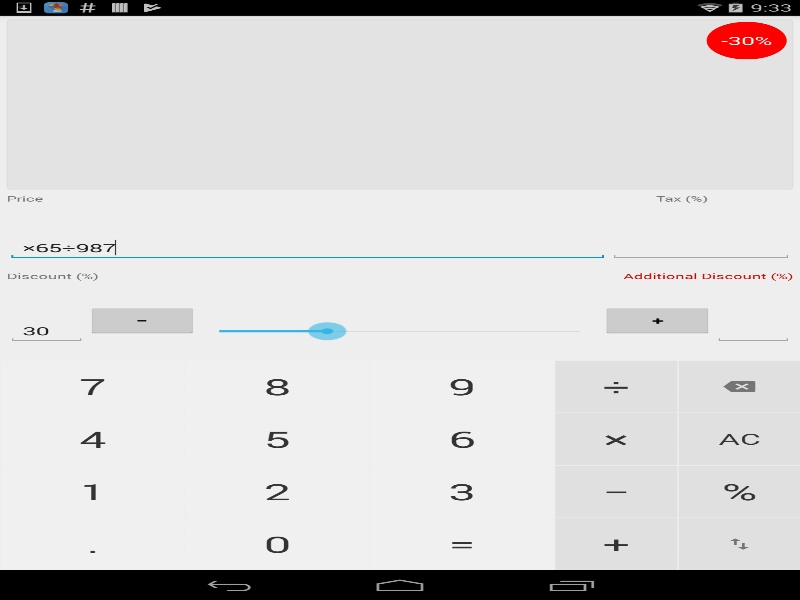Button: (370, 360, 554, 412), (370, 413, 554, 465), (370, 465, 554, 517), (370, 518, 554, 570), (1, 360, 184, 412), (186, 360, 369, 412), (1, 413, 184, 465), (186, 413, 369, 465), (1, 465, 184, 517), (186, 465, 369, 517), (1, 518, 184, 570), (186, 518, 369, 570), (555, 360, 677, 412), (678, 360, 800, 412), (555, 413, 677, 465), (678, 413, 800, 465), (555, 465, 677, 517), (678, 465, 800, 517), (555, 518, 677, 570), (678, 518, 800, 570), (86, 305, 198, 335), (601, 305, 713, 335)
Input: (6, 235, 608, 260), (608, 235, 793, 260), (6, 318, 86, 343), (713, 318, 793, 343)
